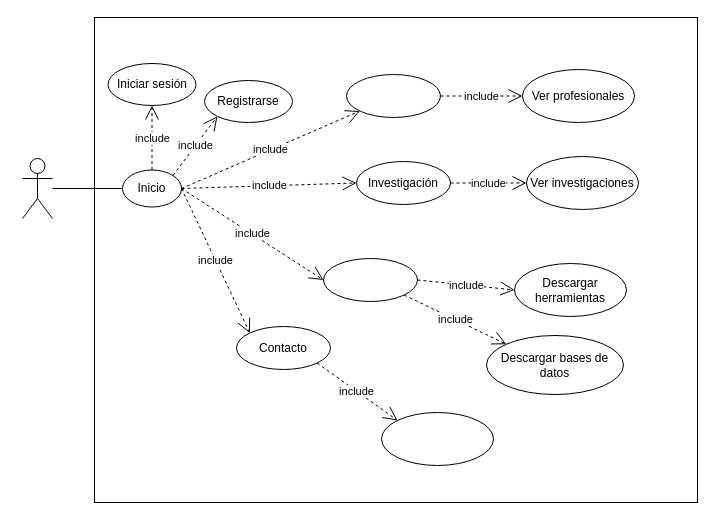
Some shapes in this 715 by 520 pixel diagram are drawn without their labels. The shapes that lost their labels are listed below. From the top down, each one's centre as x and y in pixels, then its label:
point (393, 96): Profesionales
point (37, 188): Usuario
point (370, 280): Servicios
point (437, 439): Enviar formulario
